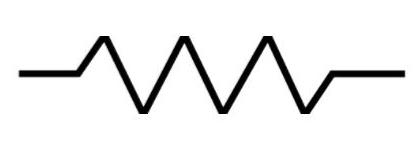resistor: (67, 15, 343, 127)
